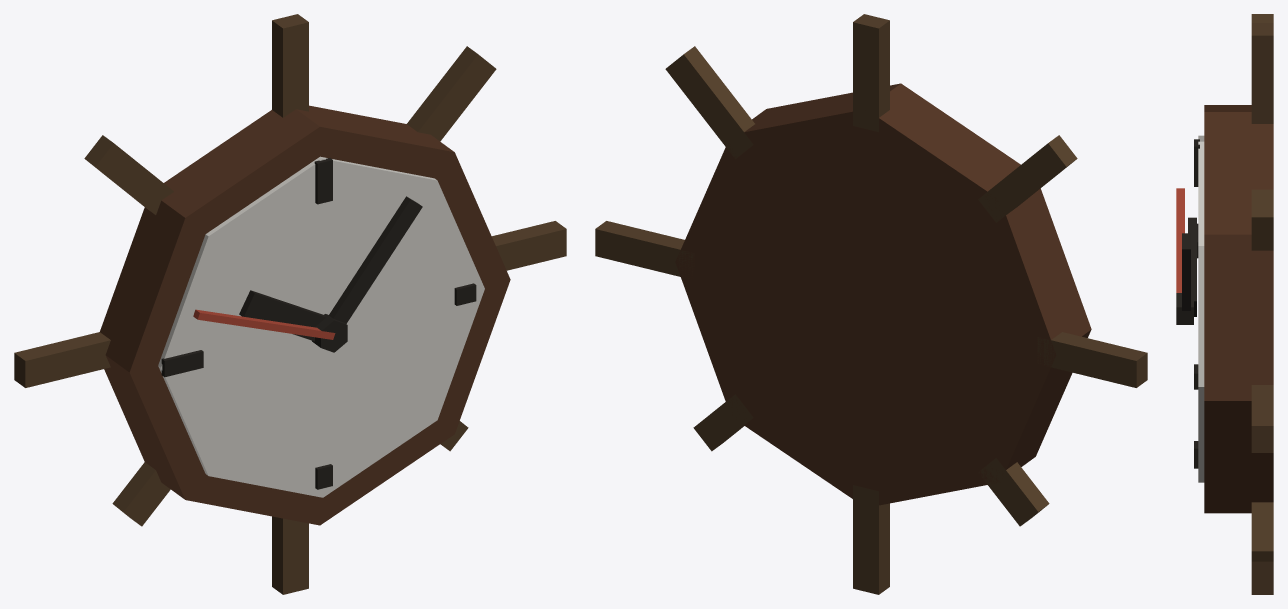
The model's file is wall-clock-43.glb.
The picture shows the model from 3 angles, left to right: view 1: azimuth 30°, elevation 25°; view 2: azimuth 150°, elevation 25°; view 3: azimuth 270°, elevation 25°; orthographic projection.
Visible parts, largest first — view 1: wall_clock_43; view 2: wall_clock_43; view 3: wall_clock_43.
Boxes of the visible parts, box(x1,y1,x2,y2) form: wall_clock_43: box(14, 14, 566, 594); wall_clock_43: box(595, 14, 1147, 594); wall_clock_43: box(1176, 14, 1273, 594).
Size of the model in its own units: 0.4172 by 0.4172 by 0.066.
